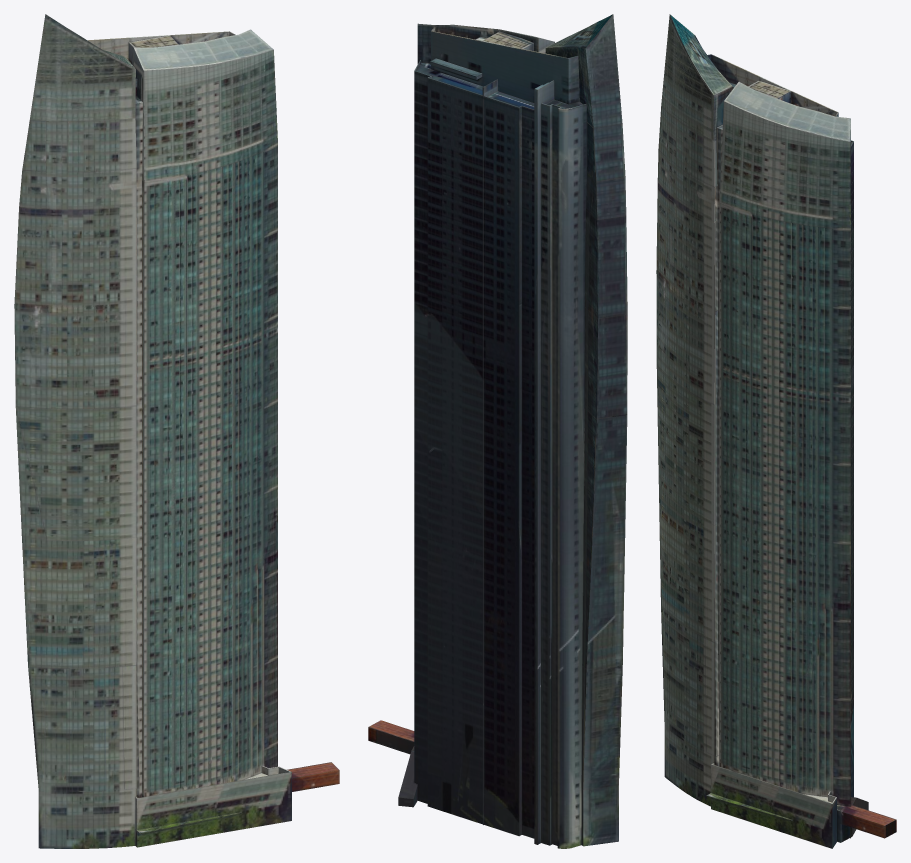
3 renders of one model, left to right at view 1: azimuth 30°, elevation 25°; view 2: azimuth 150°, elevation 25°; view 3: azimuth 330°, elevation 25°, orthographic. The views are drawn at different scales.
Parts seen in each view (by area): view 1: 8_0.glb; view 2: 8_0.glb; view 3: 8_0.glb.
Part boxes in pixels (x1,y1,x2,y2): 8_0.glb: [14, 14, 339, 848]; 8_0.glb: [368, 14, 627, 848]; 8_0.glb: [656, 14, 896, 848].
Bounding box in the file's own units: 87.97 × 242 × 31.09.
Materials: 1 (1 with a texture image).
